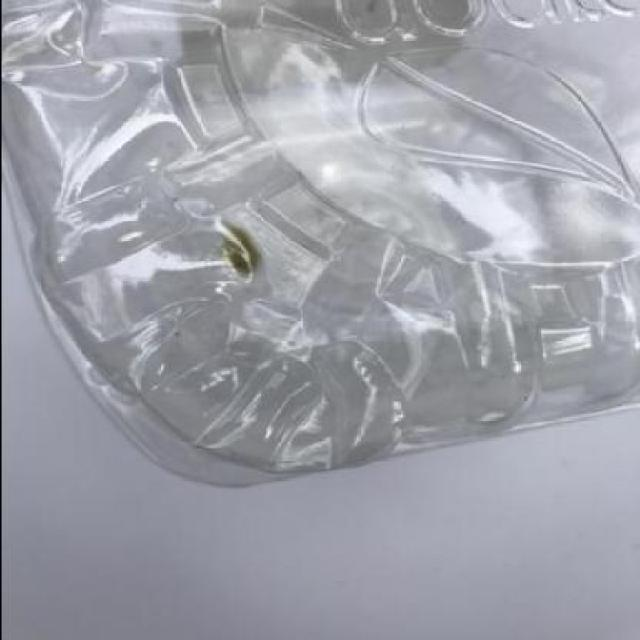PLASTIC: (1, 0, 638, 489)
